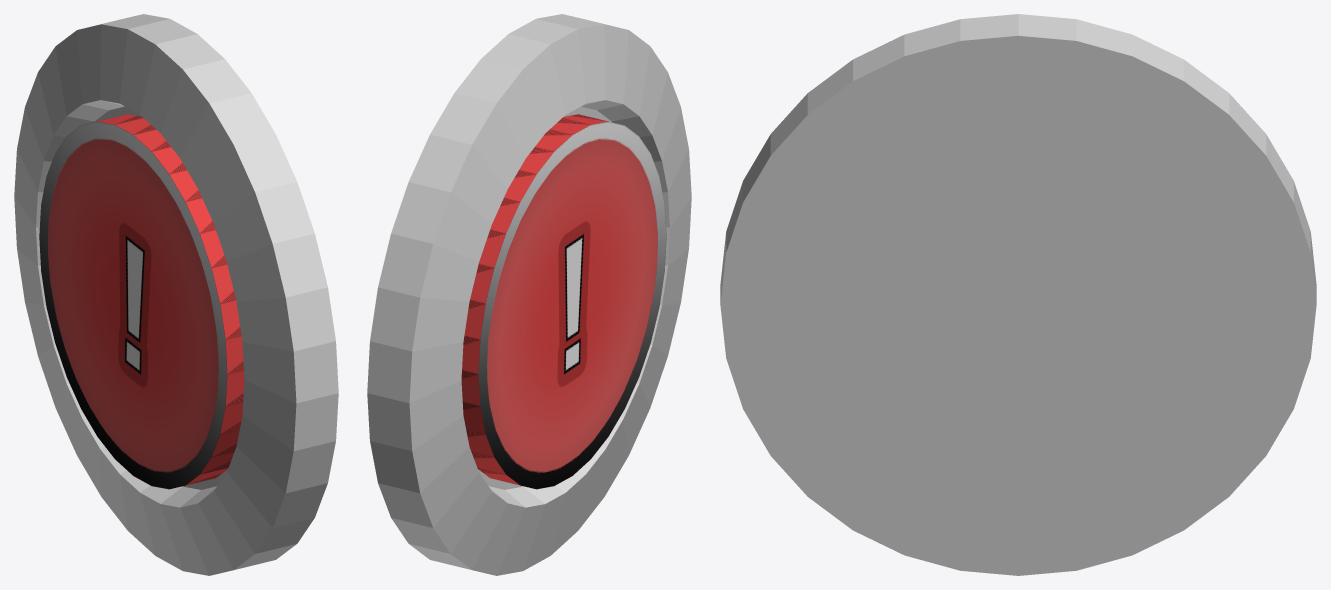
File: knopfGLTF.gltf
3 renders of one model, left to right at view 1: azimuth 30°, elevation 25°; view 2: azimuth 150°, elevation 25°; view 3: azimuth 270°, elevation 25°, orthographic. The views are drawn at different scales.
Parts seen in each view (by area): view 1: outer, inner; view 2: outer, inner; view 3: outer.
Part boxes in pixels (x1,y1,x2,y2): outer: (14,14,338,575); inner: (39,114,244,489); outer: (367,14,691,575); inner: (461,114,666,489); outer: (720,14,1316,575).
Size of the model in its own units: 0.1972 by 1.5 by 1.5.
2 materials, 1 textured.
